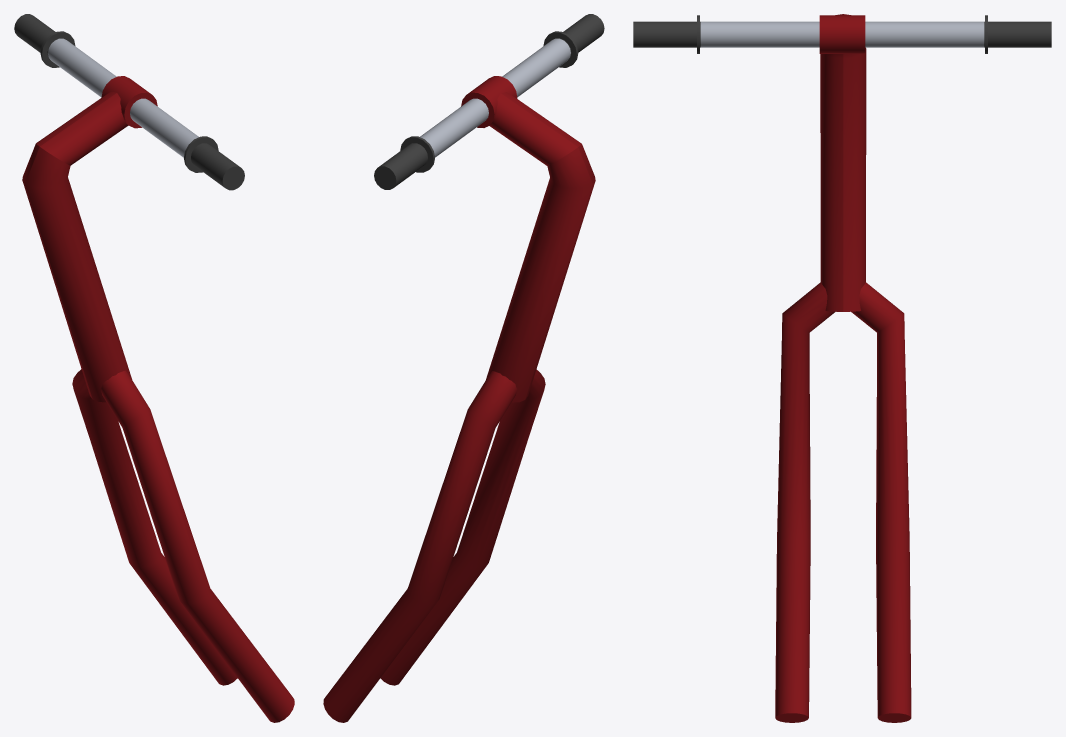
Rendered from Fork.fbx.
The picture shows the model from 3 angles, left to right: view 1: azimuth 30°, elevation 25°; view 2: azimuth 150°, elevation 25°; view 3: azimuth 270°, elevation 25°; orthographic projection.
Parts seen in each view (by area): view 1: Fork; view 2: Fork; view 3: Fork.
Part boxes in pixels (bbox=[...]): Fork: bbox=[14, 14, 294, 722]; Fork: bbox=[323, 14, 604, 722]; Fork: bbox=[633, 14, 1051, 722].
Bounding box in the file's own units: 26.15 × 66.96 × 39.09.
